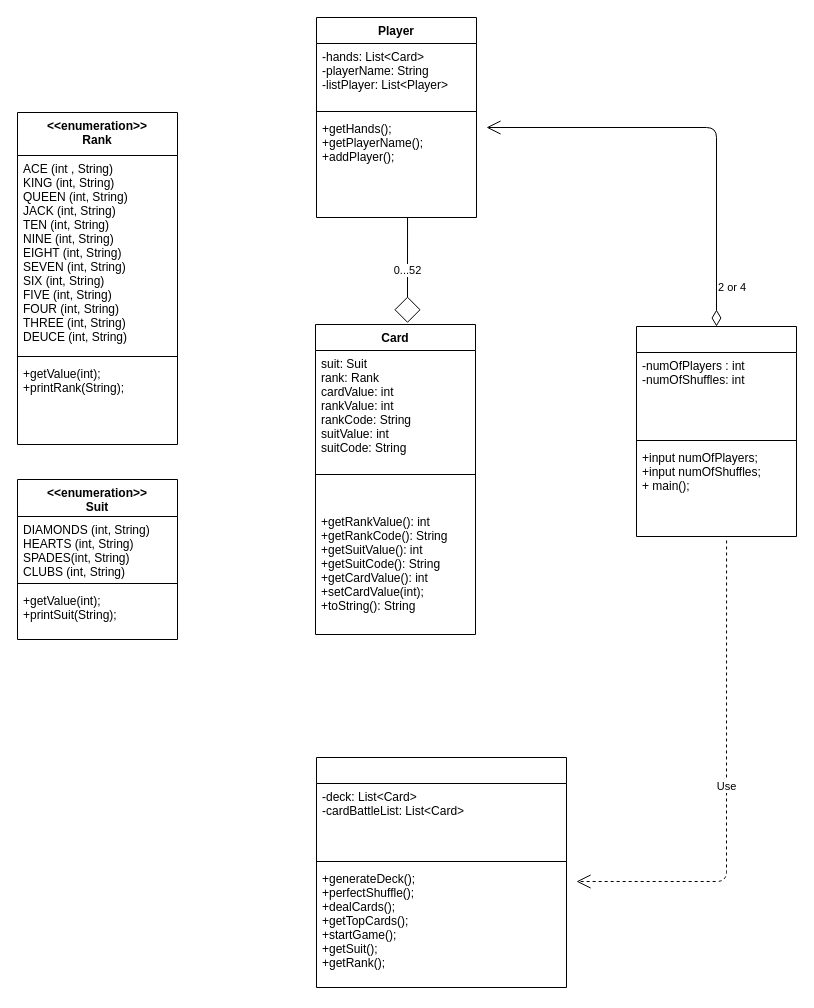
Image size: 814x1008. Some labels were removed from this diagram. Here are the shapes that lost their labels. From the top down, the box of each, then its label:
(636, 326, 796, 536): WarCard
(316, 756, 566, 988): GameMethods
